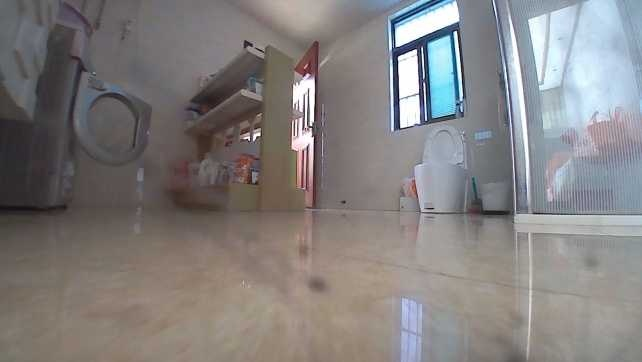door_anno: (290, 39, 319, 210)
toilet: (411, 121, 477, 218)
washing_machine: (0, 54, 154, 213)
